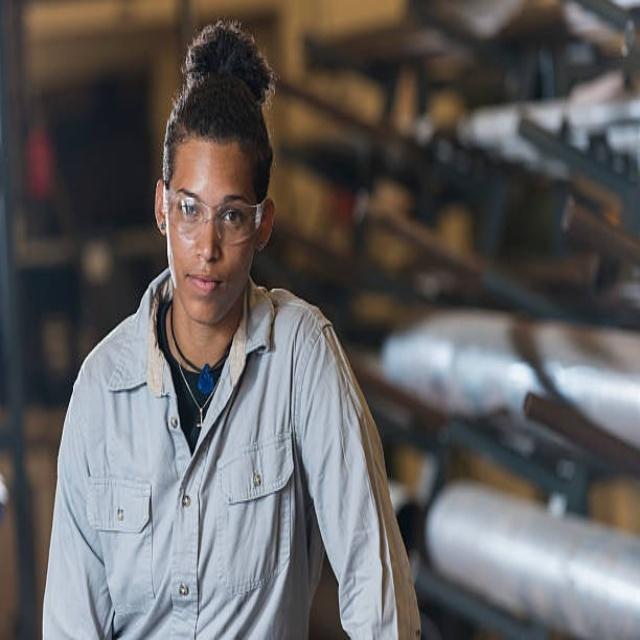Gafas: (163, 186, 267, 245)
Sin_mascara: (181, 262, 230, 318)
